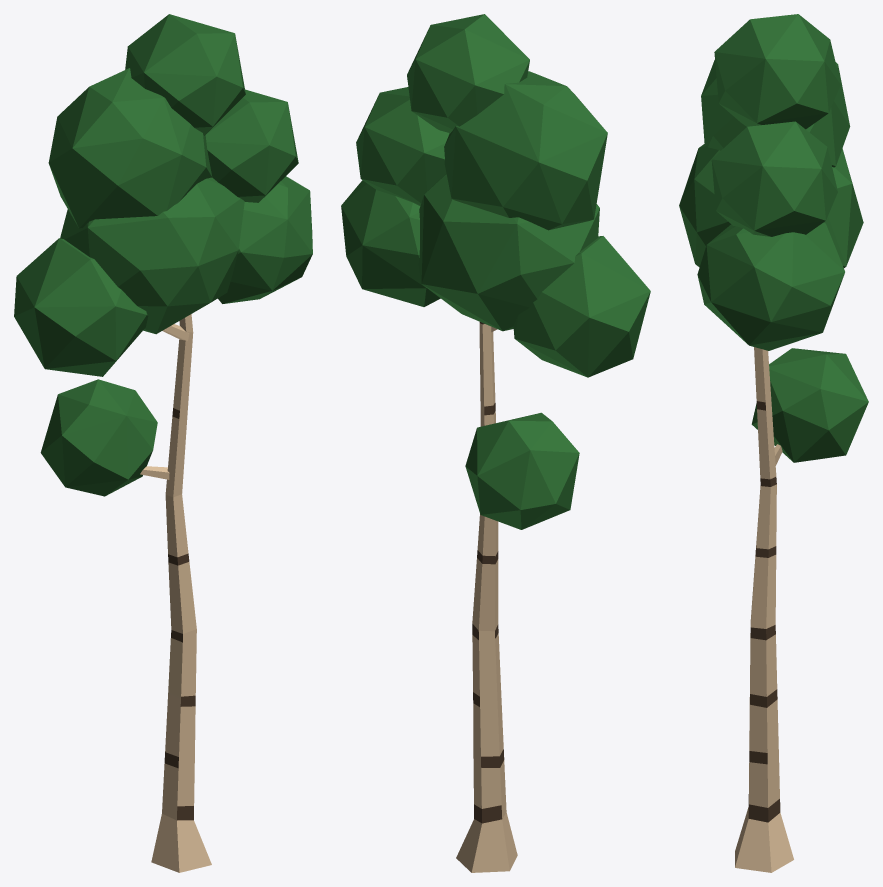
The model's file is nature_tree-birch-tall.fbx.
3 views of the same model, side by side, from view 1: azimuth 30°, elevation 25°; view 2: azimuth 150°, elevation 25°; view 3: azimuth 270°, elevation 25° (orthographic). The views are drawn at different scales.
Parts seen in each view (by area): view 1: nature_tree_birch_tall; view 2: nature_tree_birch_tall; view 3: nature_tree_birch_tall.
Part boxes in pixels (x1,y1,x2,y2): nature_tree_birch_tall: (14, 14, 312, 872); nature_tree_birch_tall: (341, 14, 650, 872); nature_tree_birch_tall: (679, 14, 868, 872).
Size of the model in its own units: 72.62 by 200 by 40.56.
